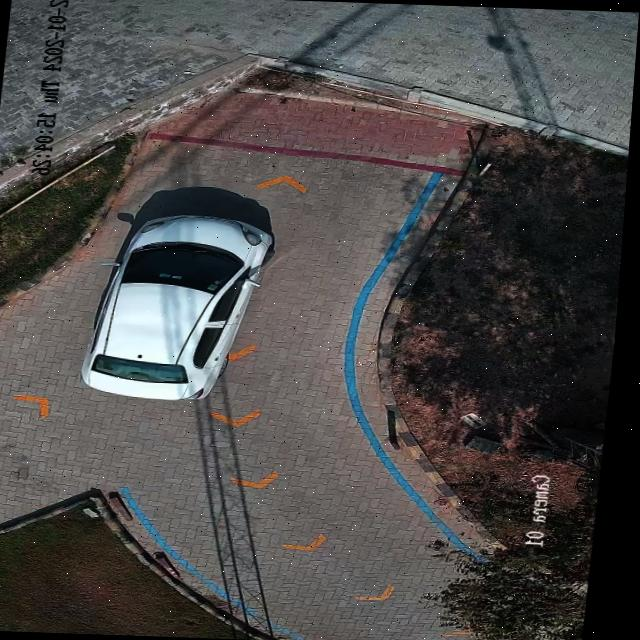car: (87, 213, 278, 399)
